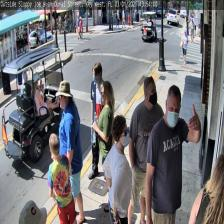person: (146, 85, 201, 224), (128, 76, 164, 224), (55, 80, 85, 224), (102, 114, 132, 224), (92, 82, 115, 210), (47, 133, 78, 223), (188, 154, 224, 222), (88, 61, 108, 178)
